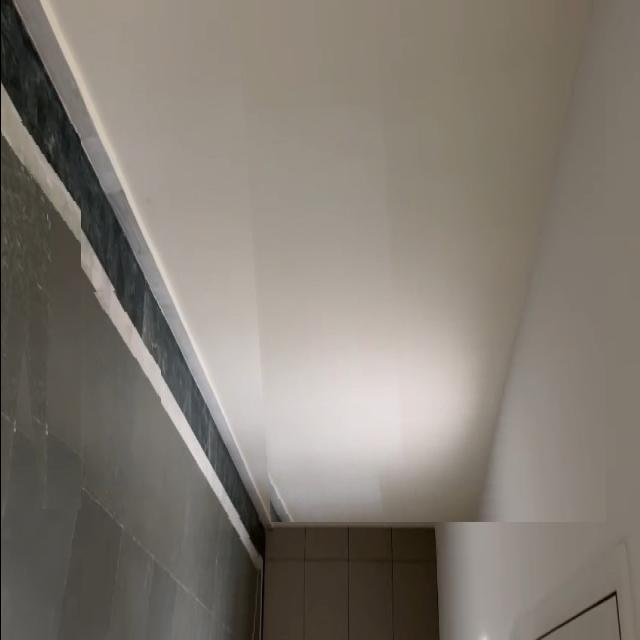floor: (0, 507, 261, 640), (0, 118, 80, 509), (84, 286, 160, 500)
wall: (237, 0, 605, 522)
